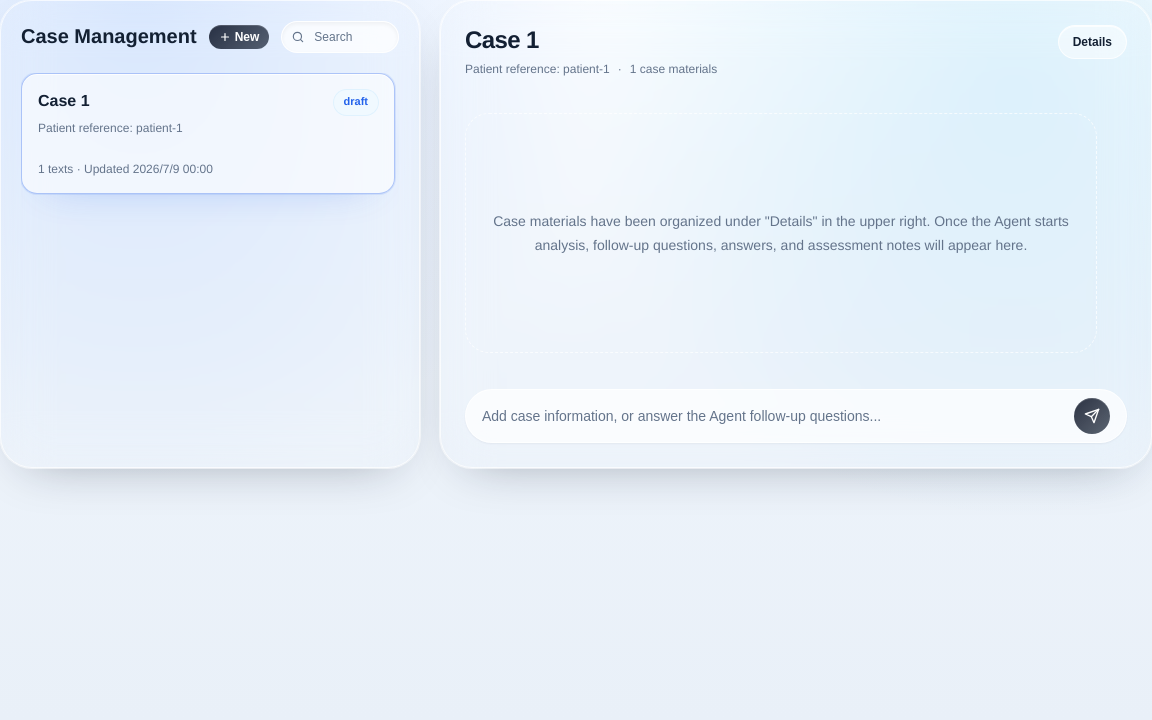
Test: Home › refreshes Patient Memory from the Details top sheet
Click the button "Details". click: (1092, 42)
box: left=1058, top=25, right=1127, bottom=59
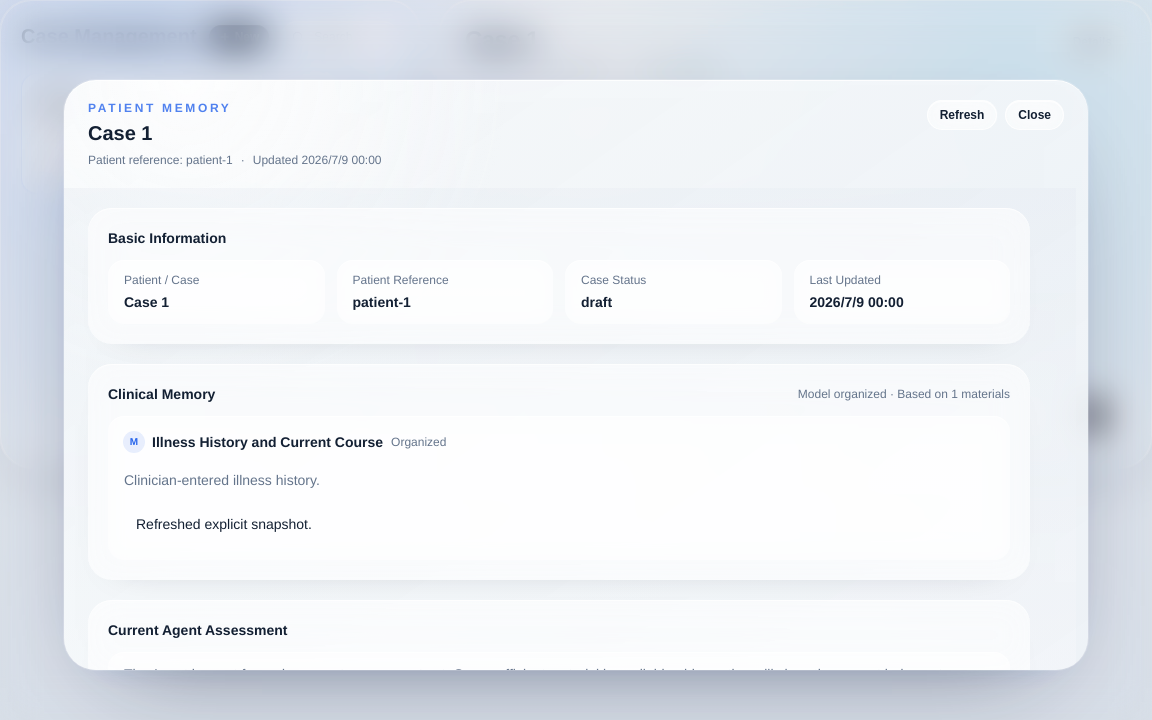
Result: the text "Model organized · Based on 1 materials" is shown at left=798, top=386, right=1010, bottom=402
Click the button with aria-label "Refresh patient memory". click: (962, 115)
box: left=927, top=100, right=997, bottom=130
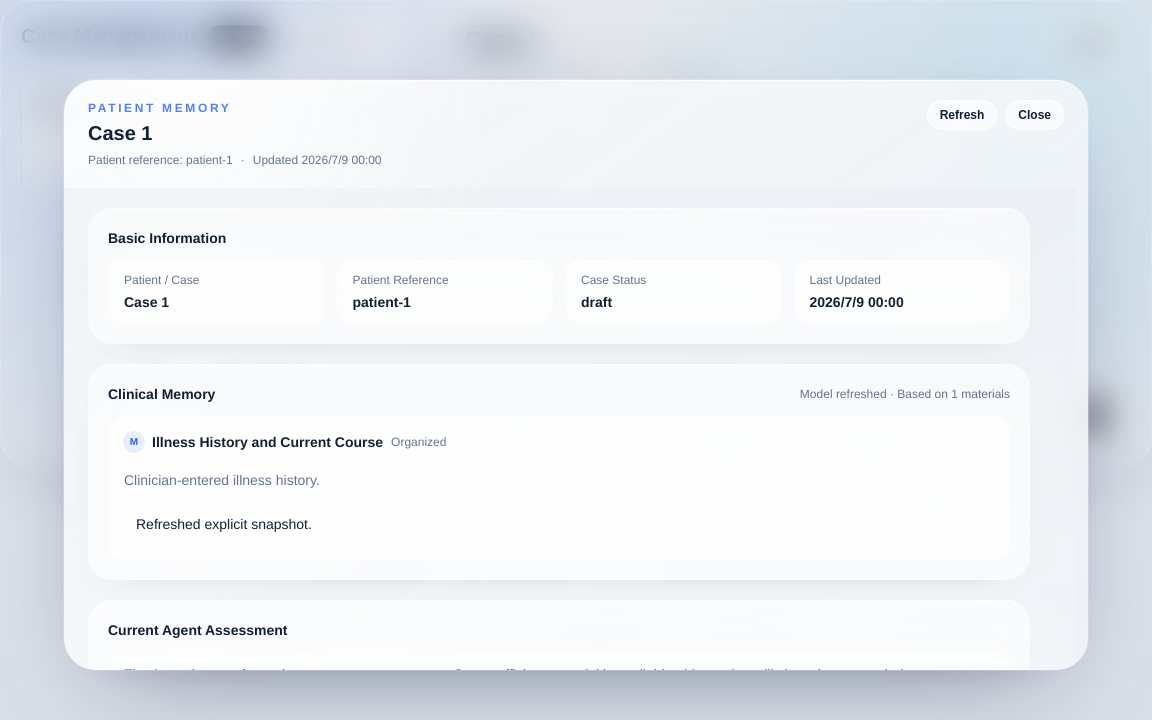
Result: the text "Model refreshed · Based on 1 materials" is shown at left=800, top=386, right=1010, bottom=402
